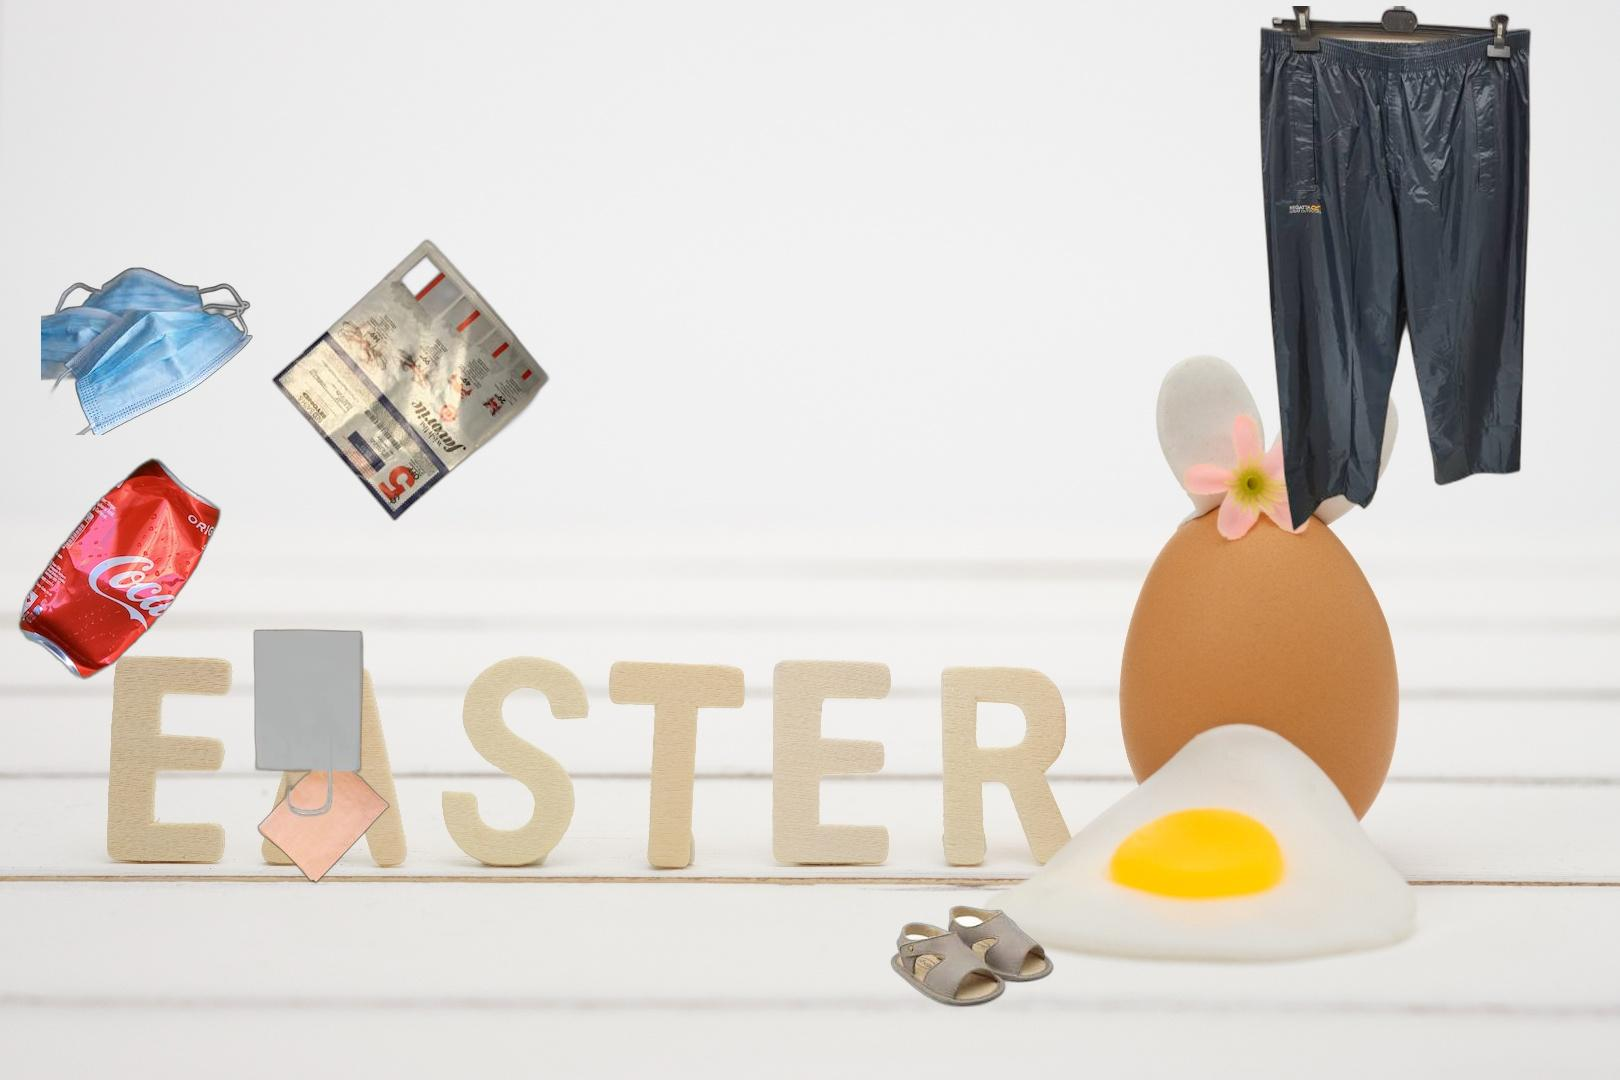clothes: (1257, 6, 1534, 535)
metal-cans: (14, 453, 224, 683)
paper: (268, 237, 551, 524)
paper-bag: (252, 628, 392, 893)
shoes: (888, 903, 1056, 1009)
trash: (41, 268, 256, 435)
